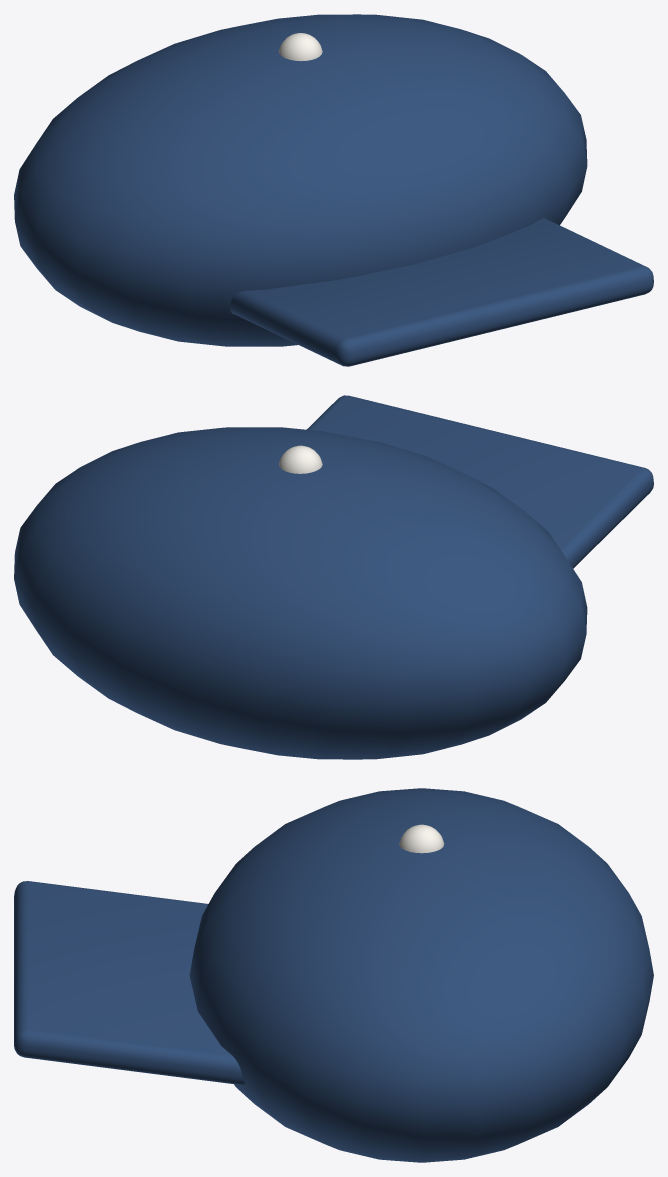
File: part_cap.glb
The picture shows the model from 3 angles, top to bottom: view 1: azimuth 30°, elevation 25°; view 2: azimuth 150°, elevation 25°; view 3: azimuth 270°, elevation 25°; orthographic projection. The views are drawn at different scales.
Parts seen in each view (by area): view 1: Cap_Crown, Cap_Brim, Cap_Button; view 2: Cap_Crown, Cap_Brim, Cap_Button; view 3: Cap_Crown, Cap_Brim, Cap_Button.
Part boxes in pixels (x1,y1,x2,y2): Cap_Crown: [14, 14, 587, 346]; Cap_Brim: [230, 218, 653, 366]; Cap_Button: [278, 33, 322, 61]; Cap_Crown: [14, 427, 587, 759]; Cap_Brim: [307, 395, 653, 568]; Cap_Button: [278, 445, 322, 473]; Cap_Crown: [189, 788, 653, 1162]; Cap_Brim: [14, 881, 245, 1085]; Cap_Button: [399, 824, 444, 853].
Size of the model in its own units: 1.04 by 0.5166 by 1.07.
